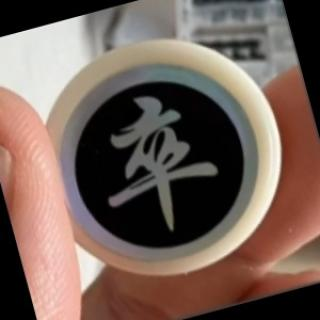qizi: (44, 42, 278, 272)
